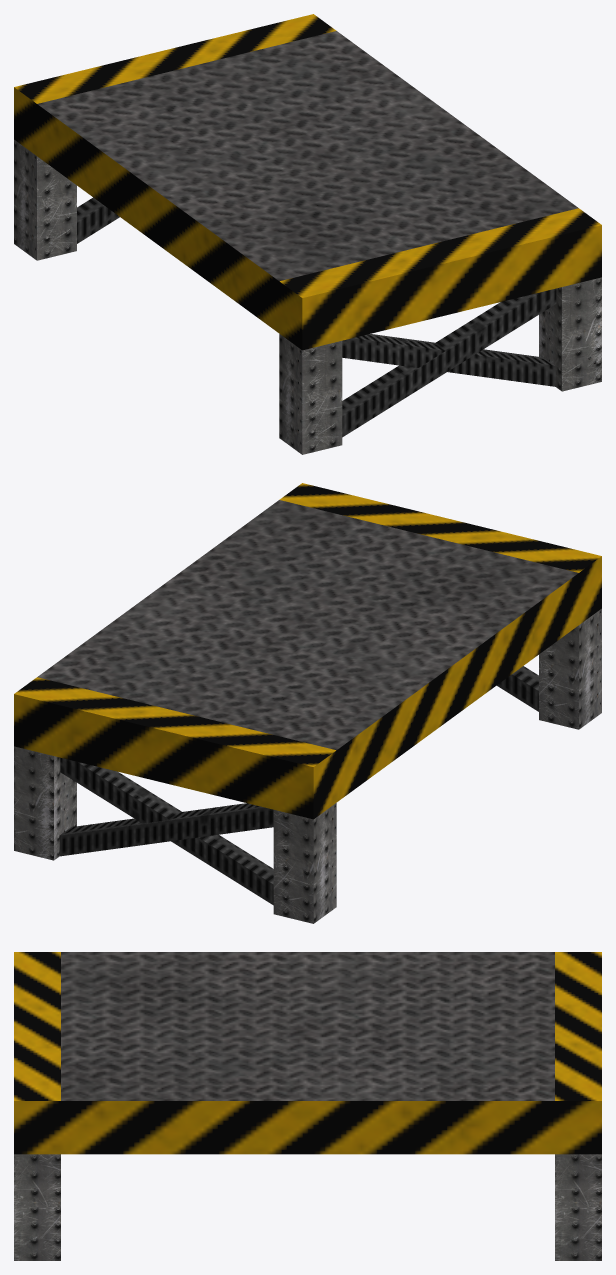
Rendered from simple.fbx.
The picture shows the model from 3 angles, top to bottom: view 1: azimuth 30°, elevation 25°; view 2: azimuth 150°, elevation 25°; view 3: azimuth 270°, elevation 25°; orthographic projection.
Visible parts, largest first — view 1: Simple; view 2: Simple; view 3: Simple.
Part boxes in pixels (x1,y1,x2,y2): Simple: (14, 14, 601, 454); Simple: (14, 483, 601, 923); Simple: (14, 952, 601, 1260).
Bounding box in the file's own units: 3 × 1.5 × 5.
